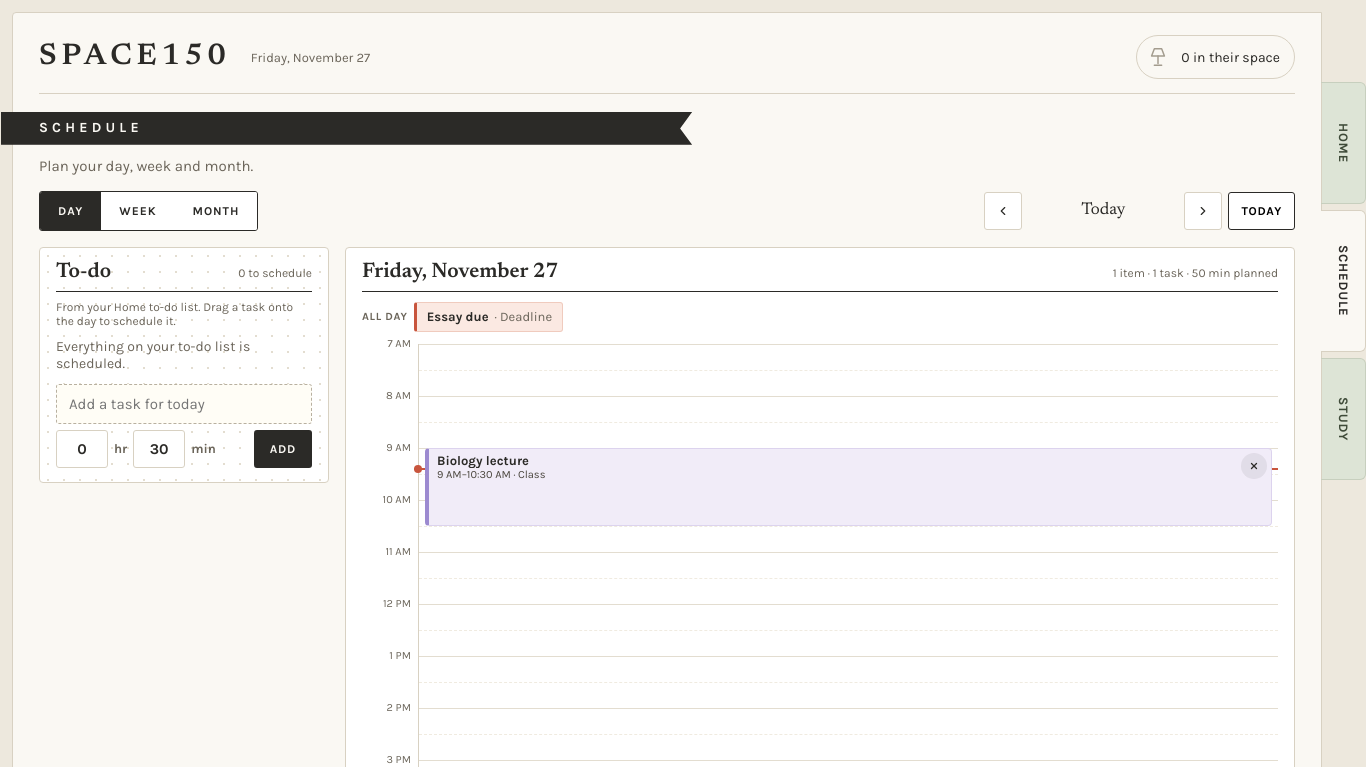
tasks added on a future day in the Schedule wait for that day on Home
The image size is (1366, 767).
Check: the text "Future reading" is not shown
Click the button named "Next day": click(1203, 211) [1184,192,1222,230]
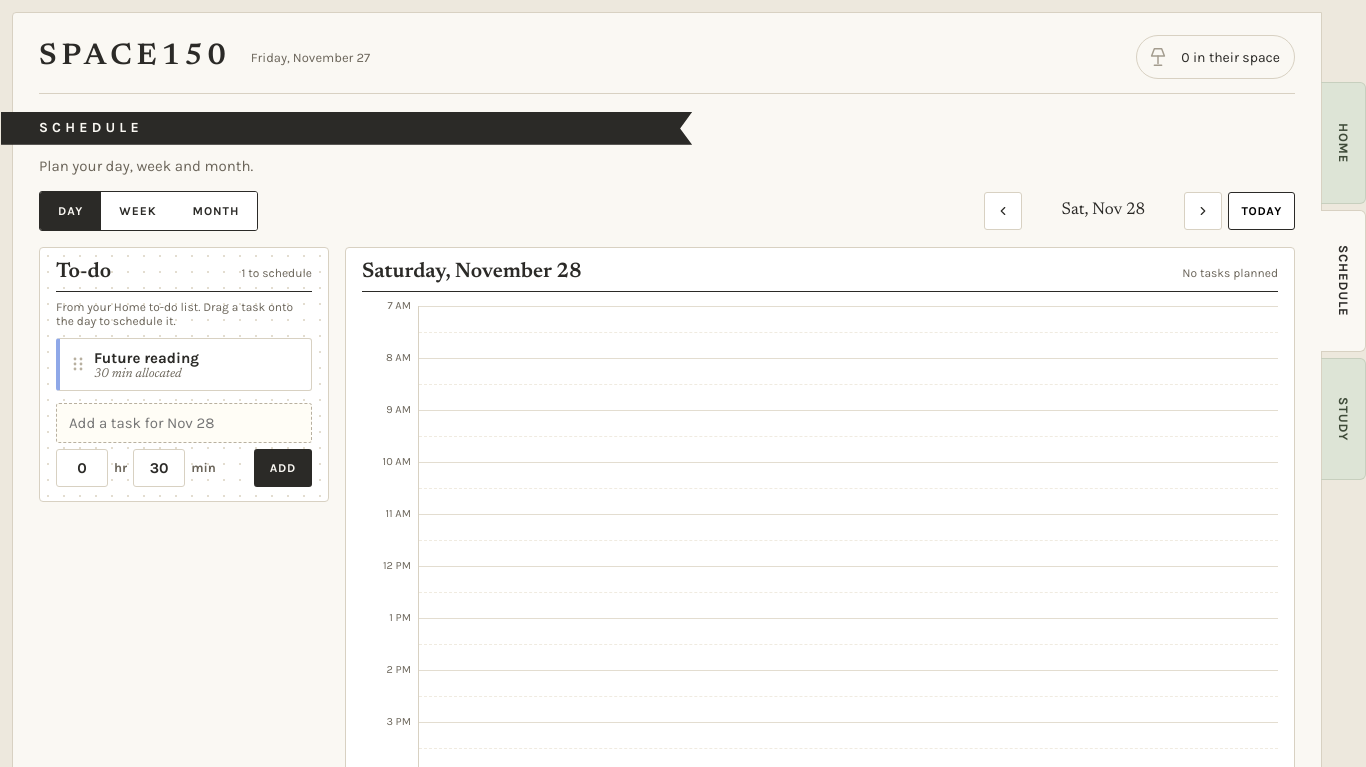
Check: the text "Future reading" is shown, box [94,349,199,367]
In the field named "New task for this day": (184, 423) [56,403,312,443], type "Too long"
Replace the text in the field named "Hours" with "1.5": (82, 468) [56,449,108,487]
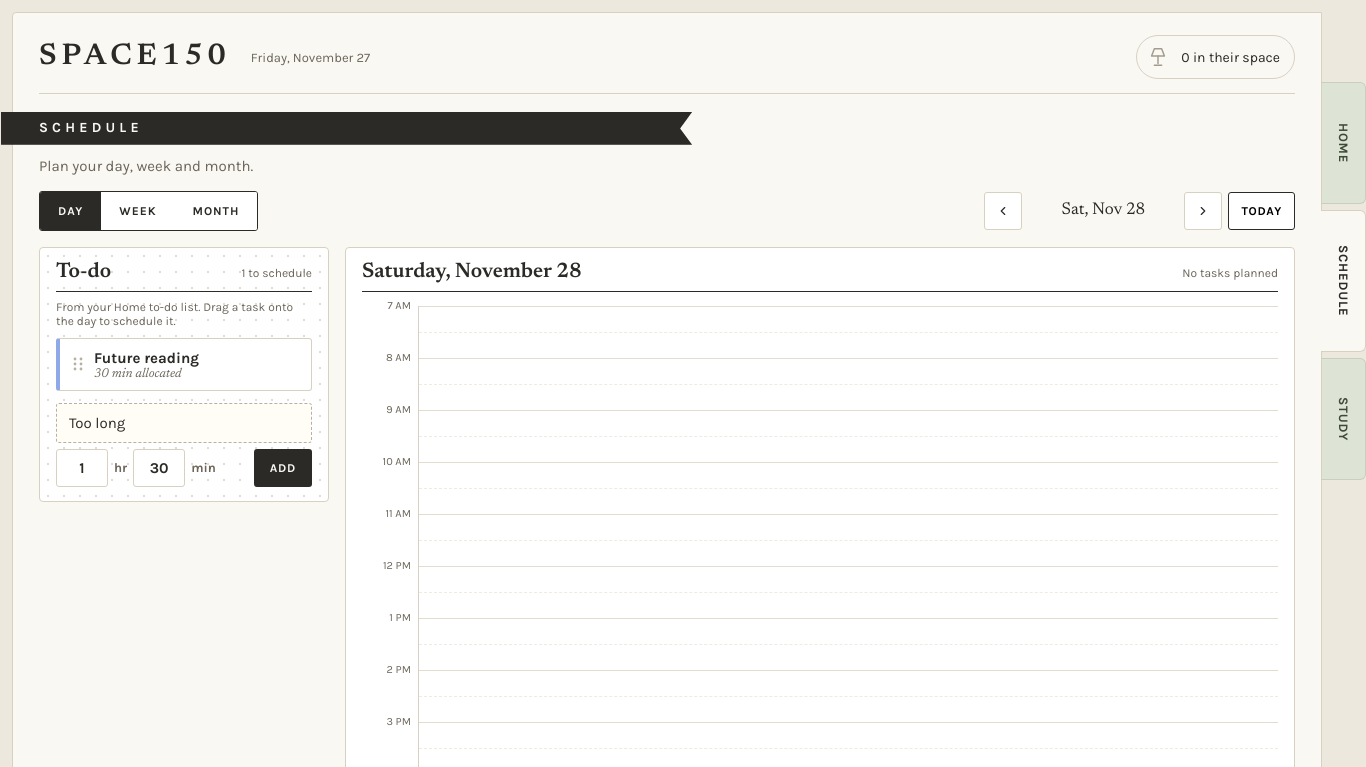
Check: the field named "Hours" holds "1", box [56,449,108,487]
Replace the text in the field named "Minutes" with "75": (159, 468) [133,449,185,487]
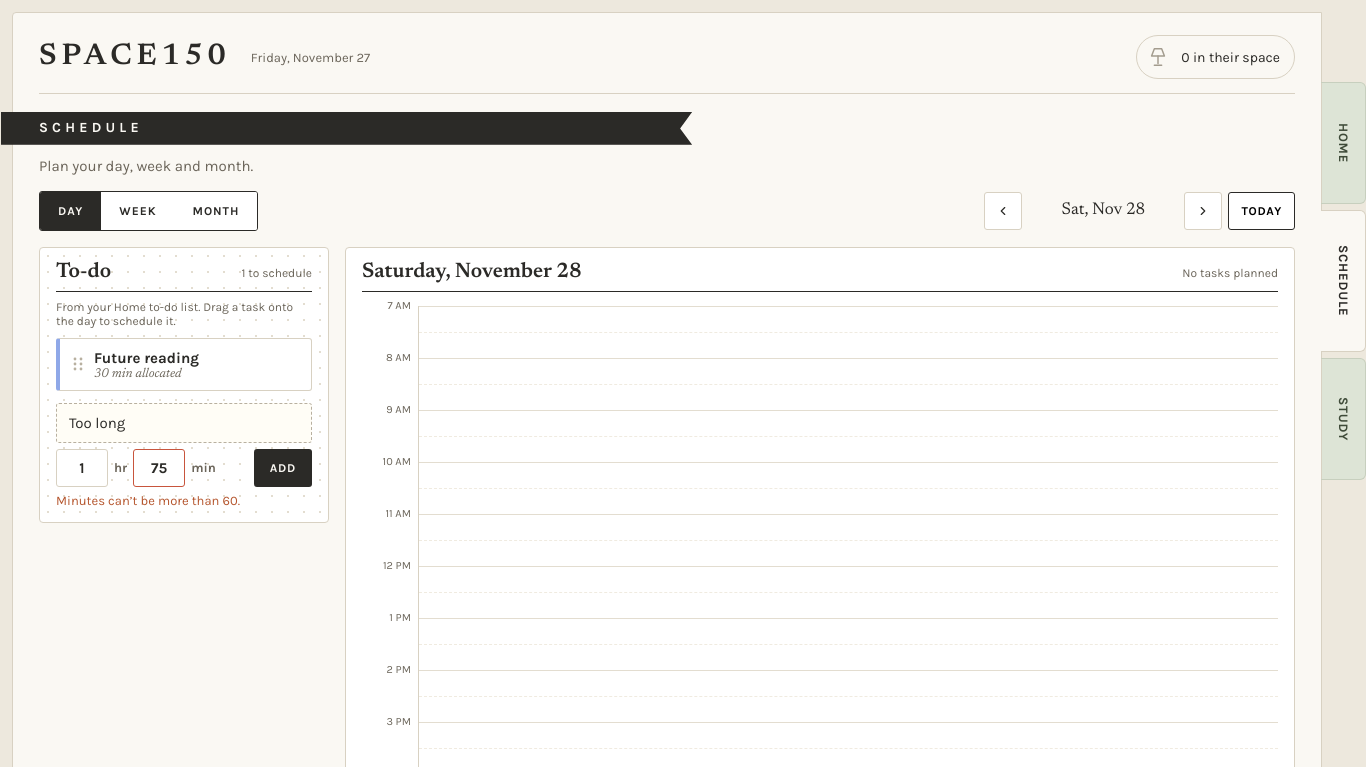
Check: the message reads "Minutes can’t be more than 60.", box [56,493,240,508]
Press Enter in the field named "New task for this day", box [56,403,312,443]
Replace the text in the field named "Minutes" with "15": (159, 468) [133,449,185,487]
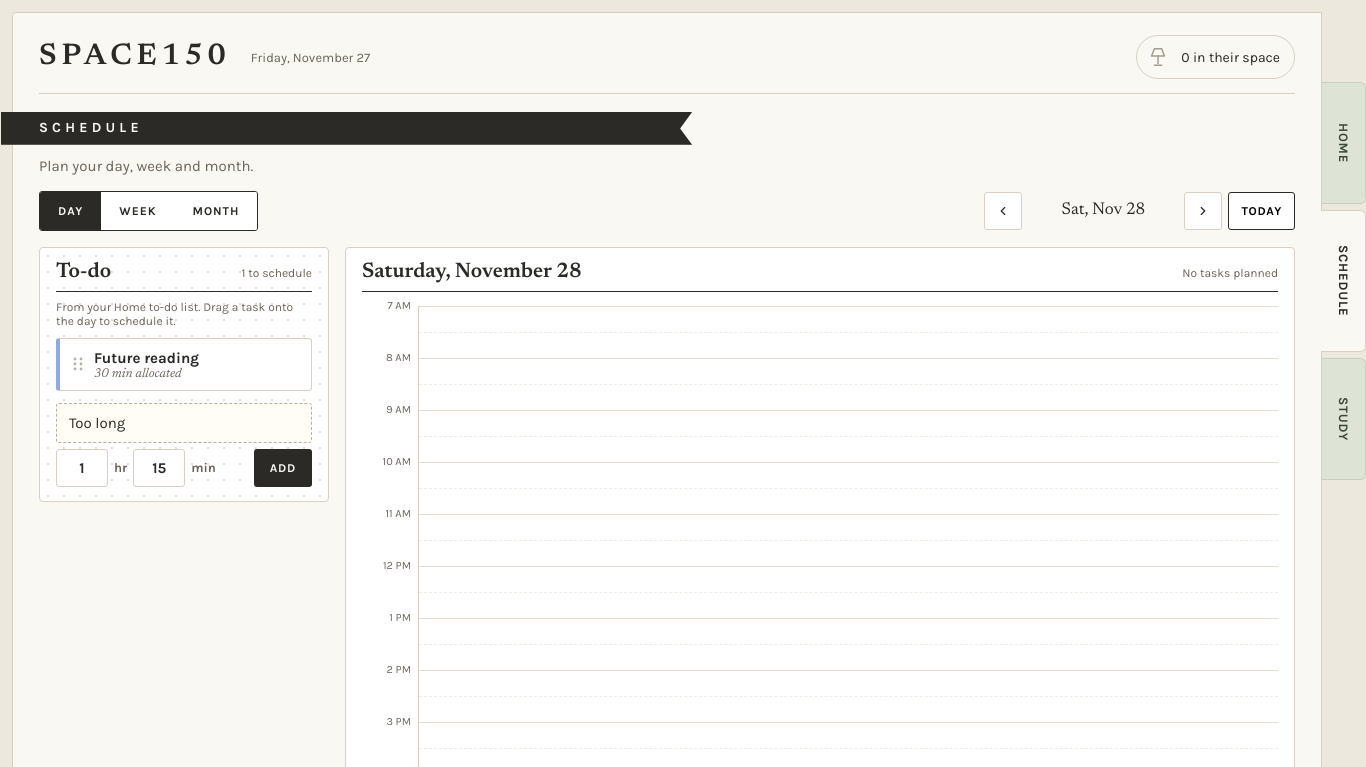
Check: the message "Minutes can’t be more than 60." is gone
Replace the text in the field named "New task for this day" with "Pack lab coat": (184, 423) [56,403,312,443]
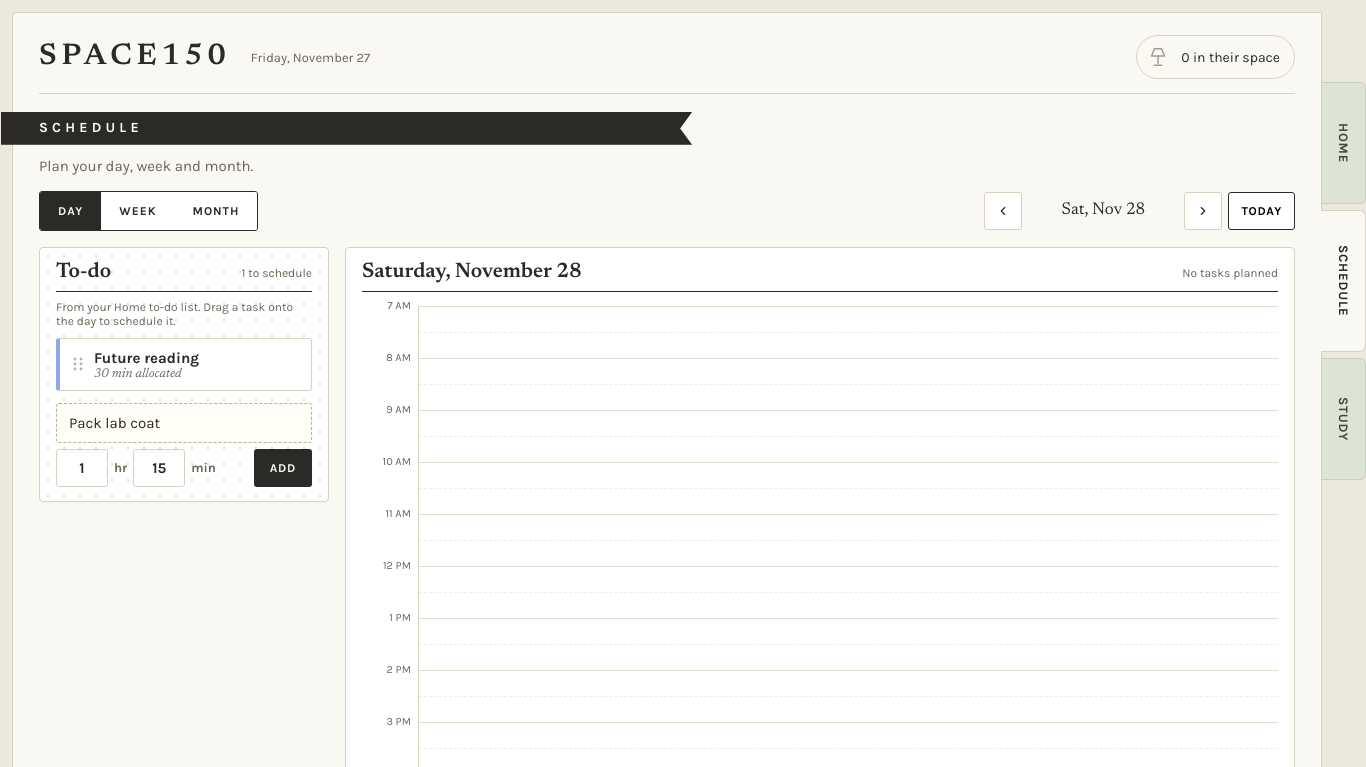
Press Enter in the field named "New task for this day", box [56,403,312,443]
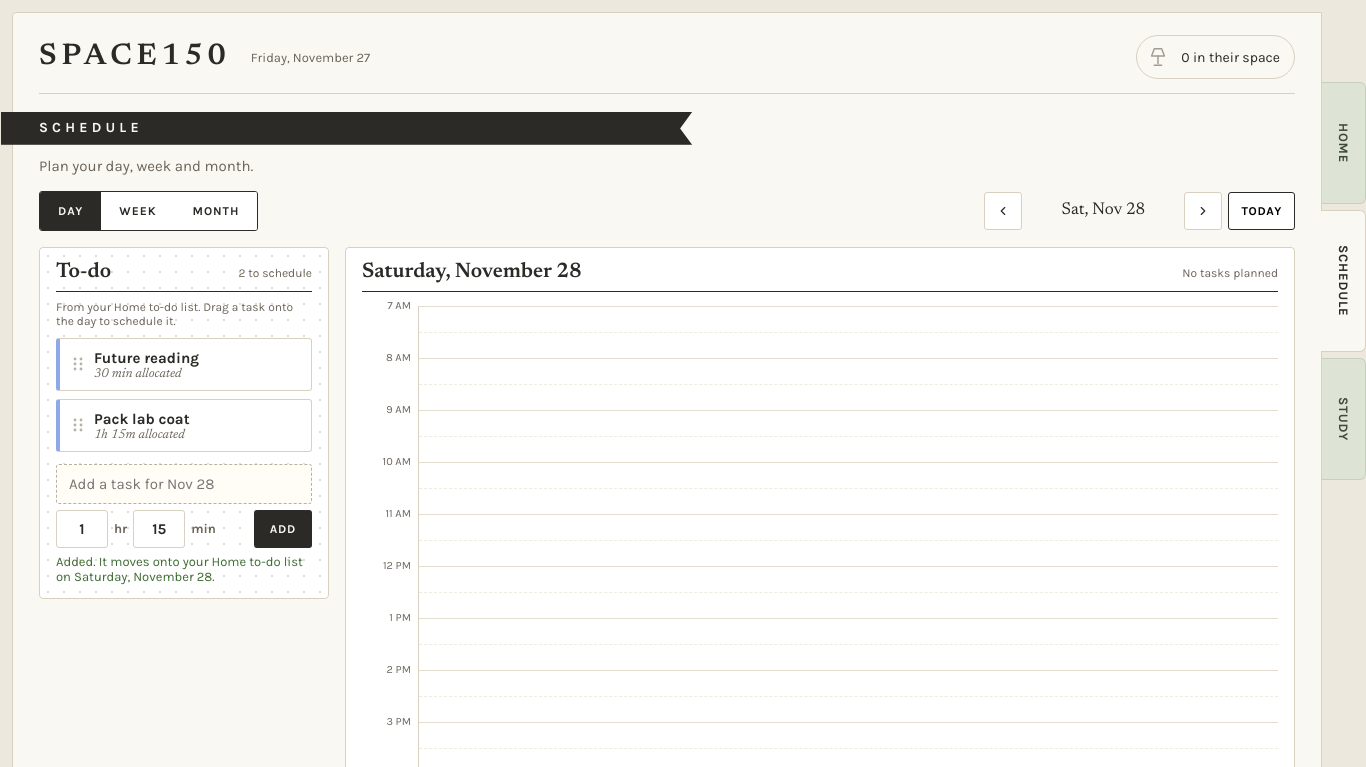
Check: the text "Pack lab coat" is shown, box [94,410,190,428]
